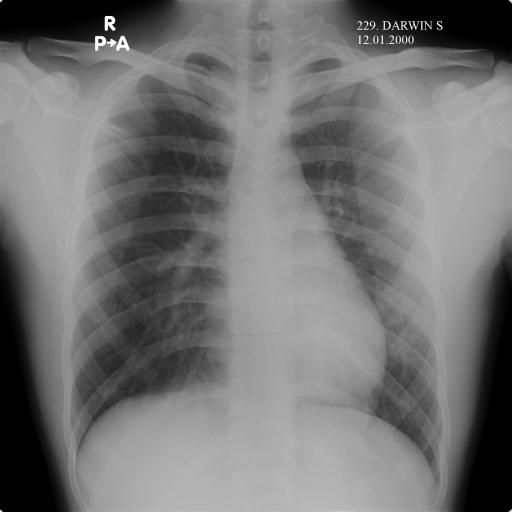normal: (56, 14, 452, 484)
